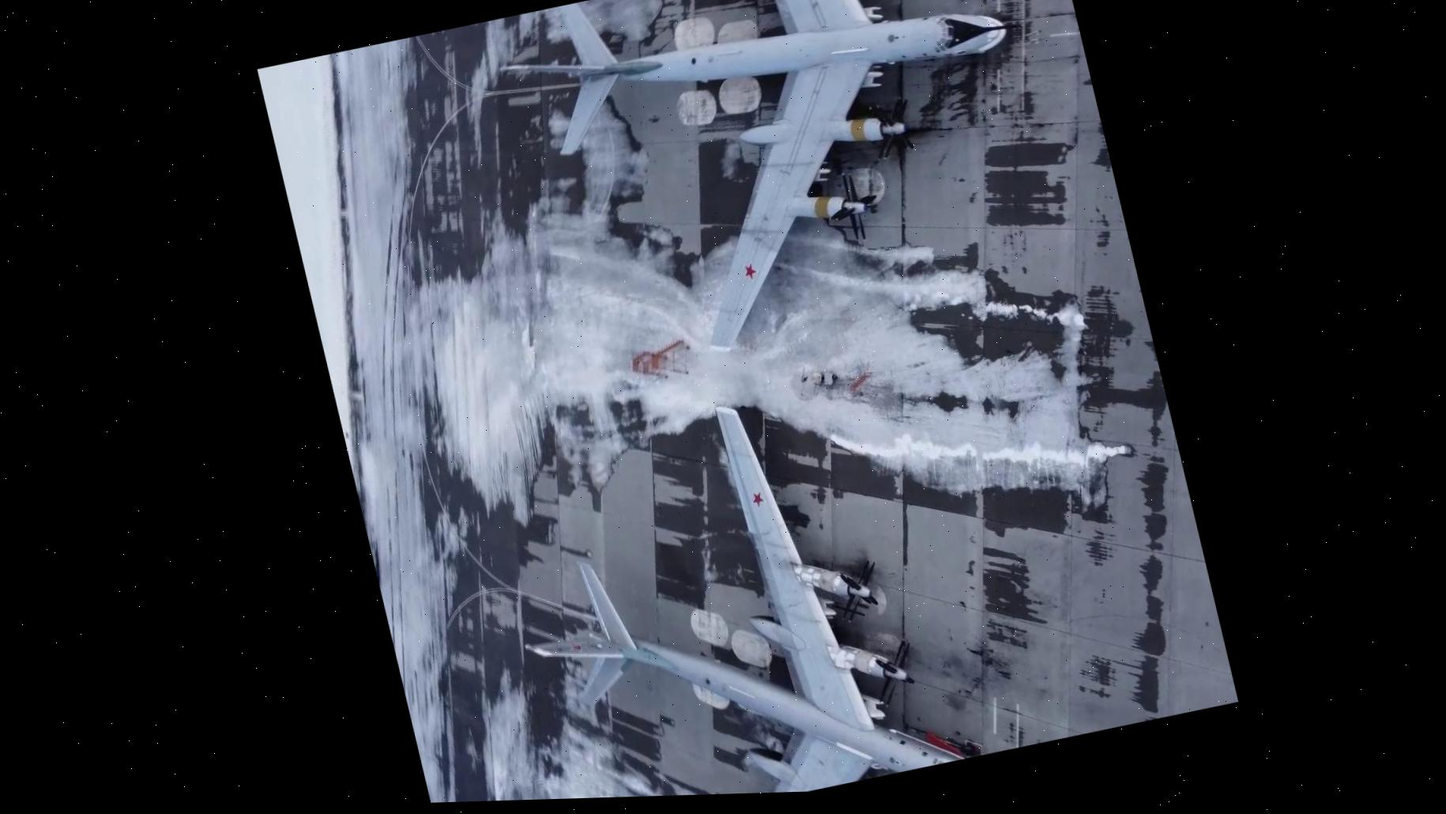plane: (481, 0, 1083, 391), (475, 365, 996, 801)
